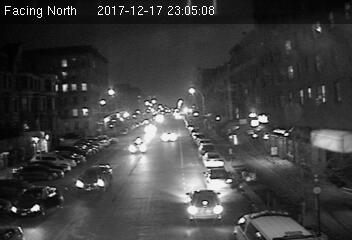car: (8, 185, 66, 219), (183, 187, 226, 221), (75, 165, 113, 196), (203, 166, 234, 188), (127, 137, 149, 155), (202, 151, 224, 166), (159, 131, 179, 144)
police: (229, 210, 316, 240)
